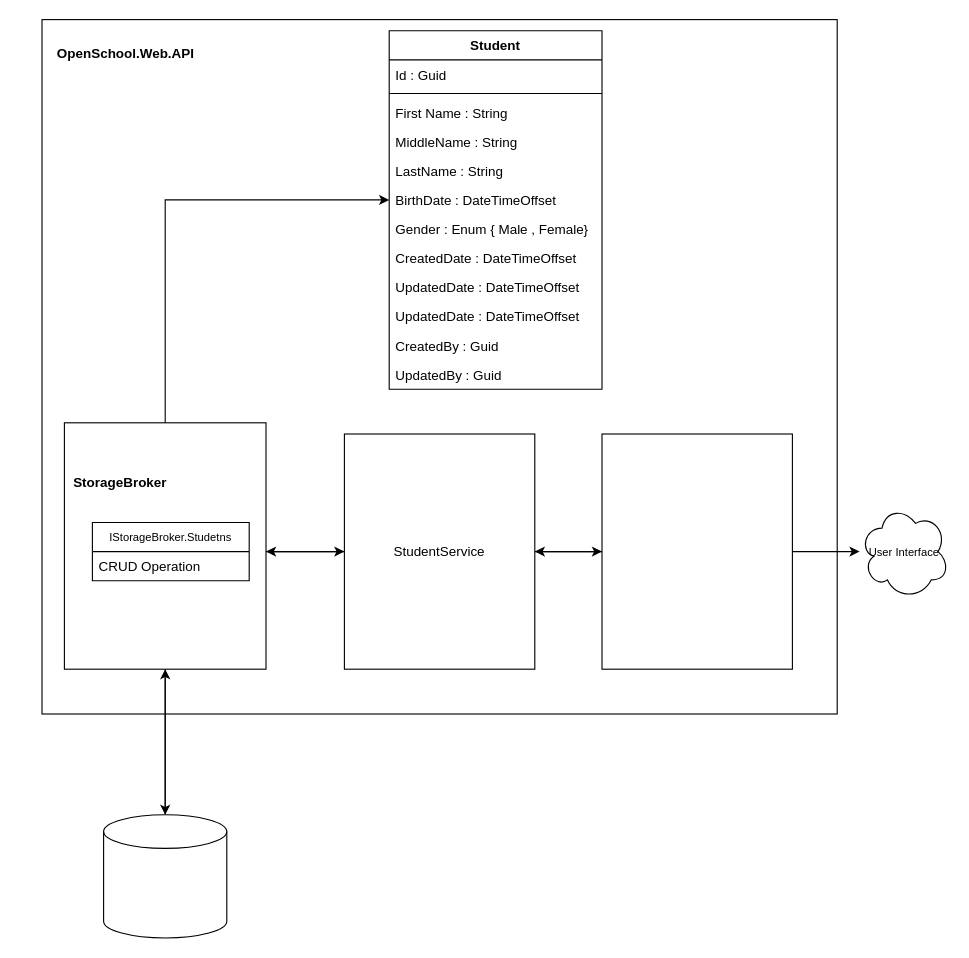
This 969x958 diagram has some shape labels left out. Here are the shapes that lost their labels. From the top down, the centre of each, then its label:
point 696,551: Student Controller
point 164,876: Database
